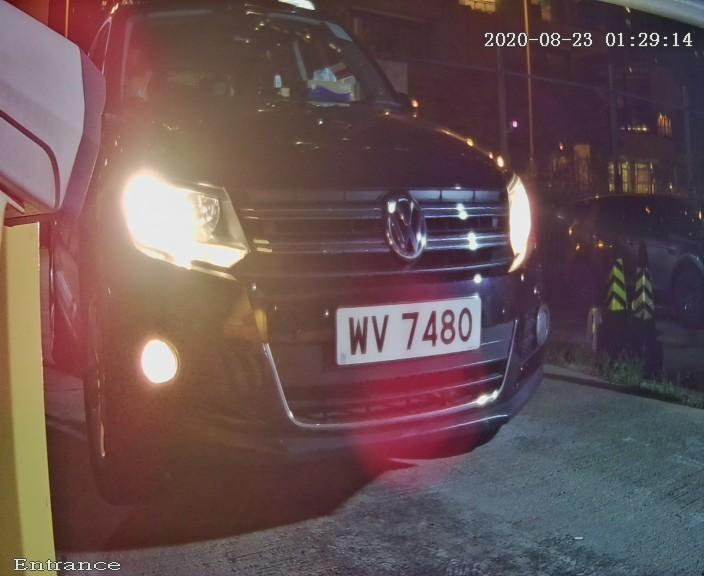License Plate: (325, 271, 498, 388)
